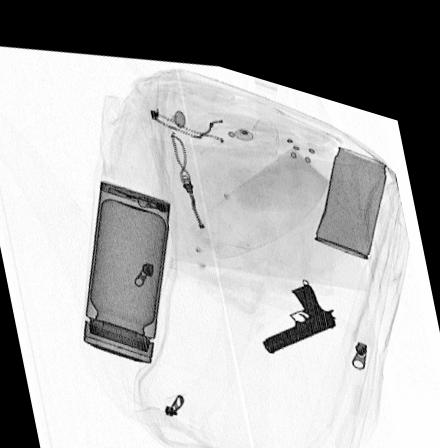Gun: (260, 265, 335, 338)
